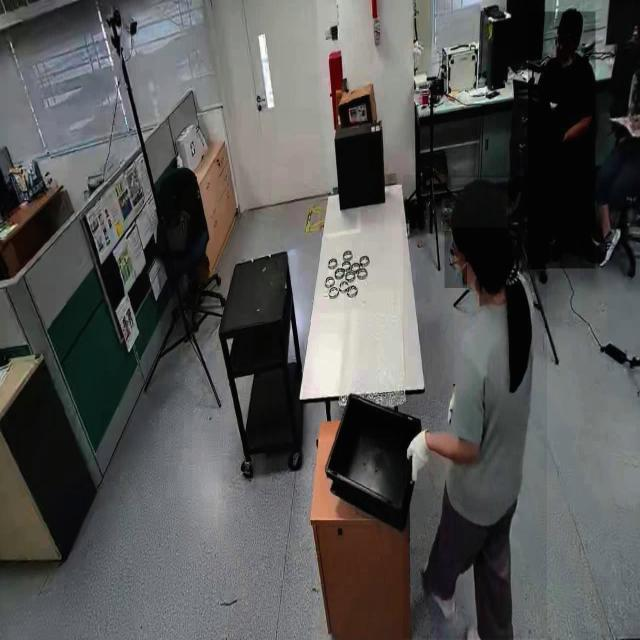face_mask: (445, 231, 467, 288)
hand_glove: (404, 415, 429, 490)
head_nohelmet: (451, 178, 508, 228), (558, 7, 586, 30)
person: (403, 175, 547, 639), (528, 12, 596, 270)
